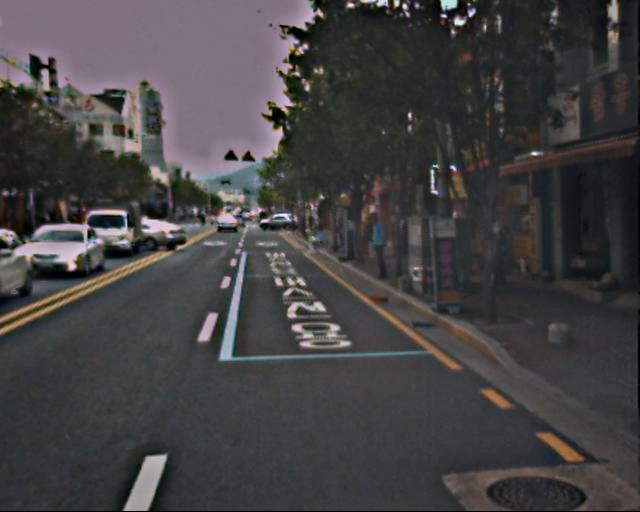person: (480, 218, 510, 292), (363, 211, 393, 283)
